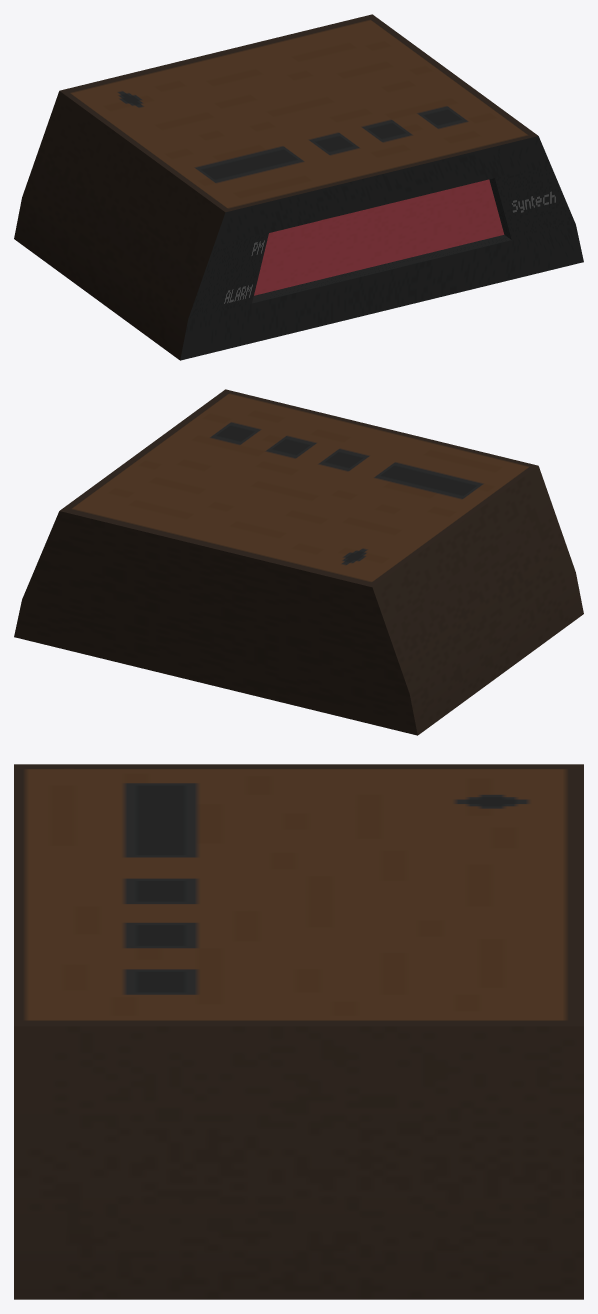
Rendered from Alarm.fbx.
The picture shows the model from 3 angles, top to bottom: view 1: azimuth 30°, elevation 25°; view 2: azimuth 150°, elevation 25°; view 3: azimuth 270°, elevation 25°; orthographic projection. The views are drawn at different scales.
Parts seen in each view (by area): view 1: pCube48; view 2: pCube48; view 3: pCube48.
Boxes of the visible parts, bbox=[...] form: pCube48: bbox=[14, 14, 583, 360]; pCube48: bbox=[14, 389, 583, 735]; pCube48: bbox=[14, 764, 583, 1299].
Size of the model in its own units: 51.66 by 16.77 by 36.83.
